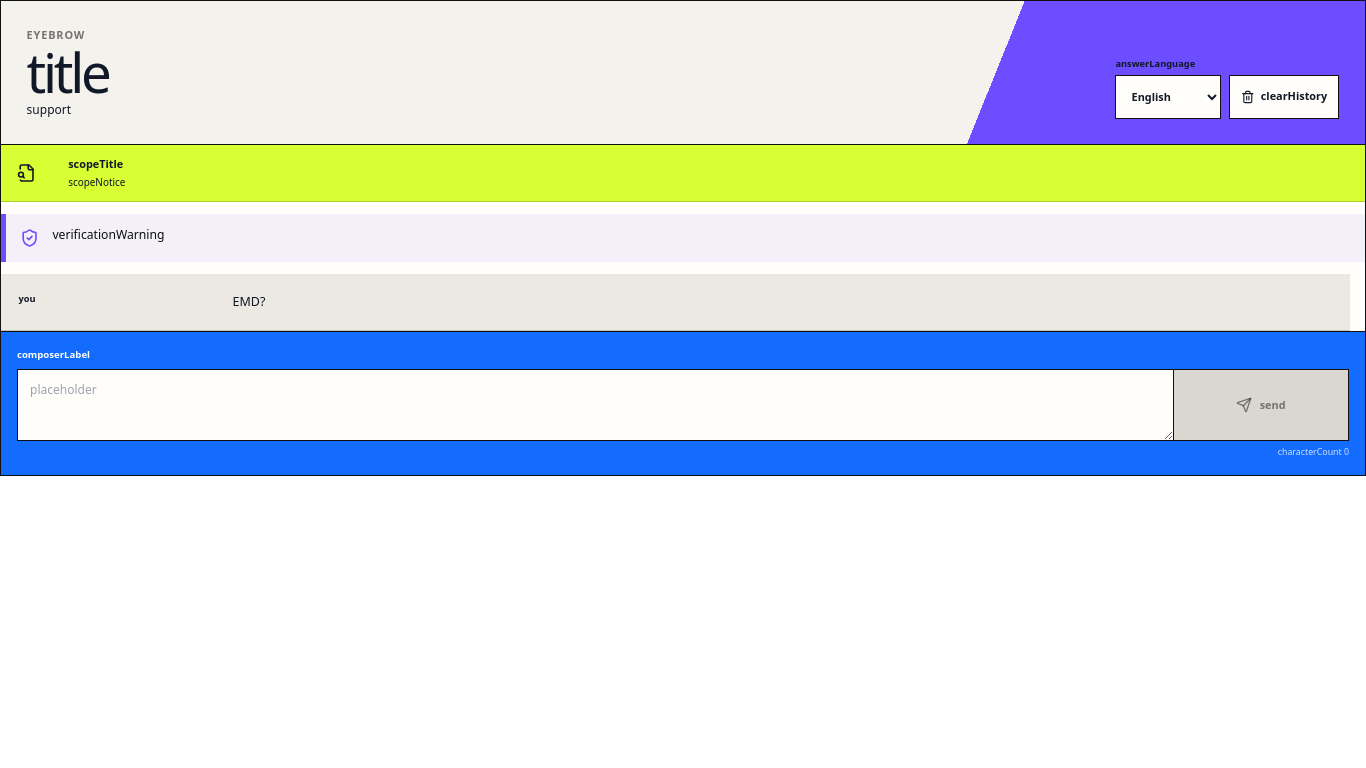
AskTenderMateReport › shows errors and confirms private-history deletion
Expected: the text "EMD?" is shown, [233, 293, 265, 310]
Click the button "clearHistory": coordinates (1284, 97) [1229, 75, 1339, 119]
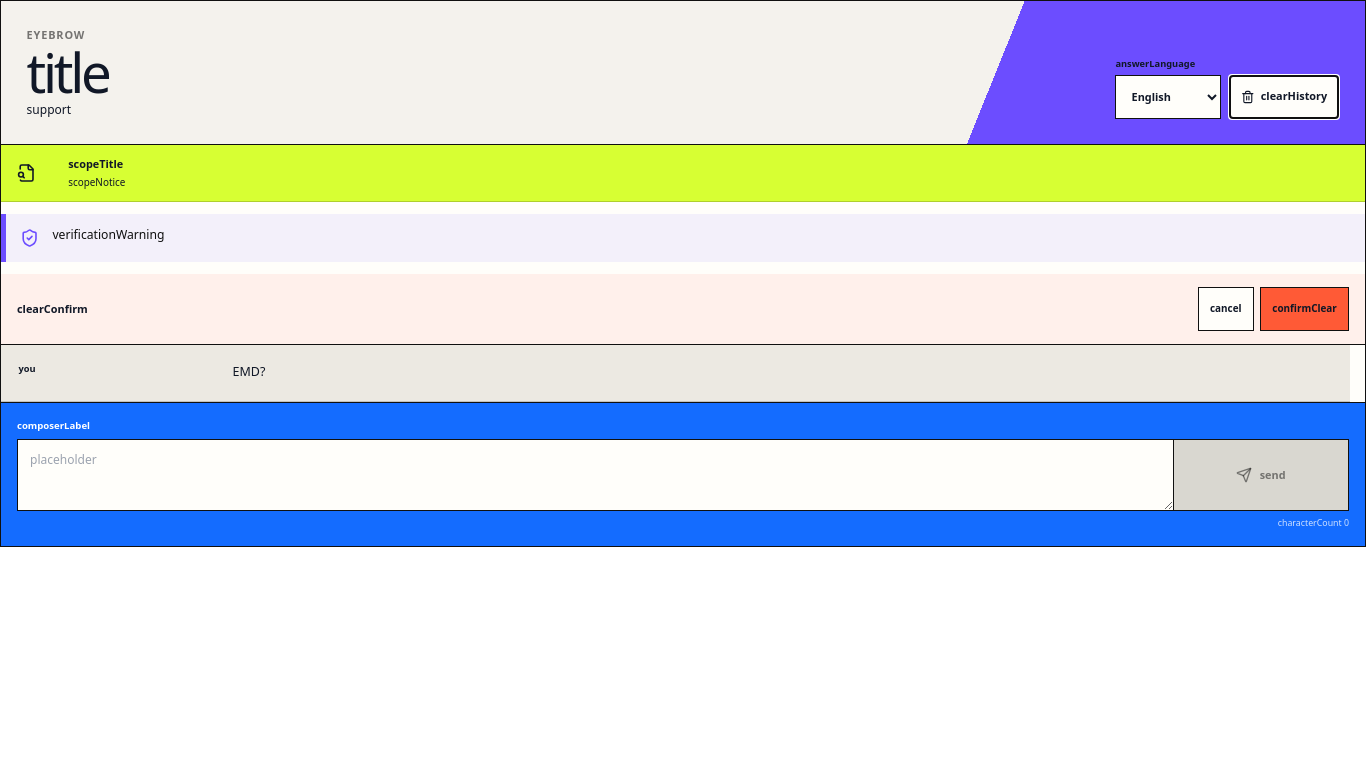
Expected: the text "clearConfirm" is shown, [17, 301, 88, 317]
Click the button "confirmClear": coordinates (1305, 309) [1260, 287, 1349, 331]
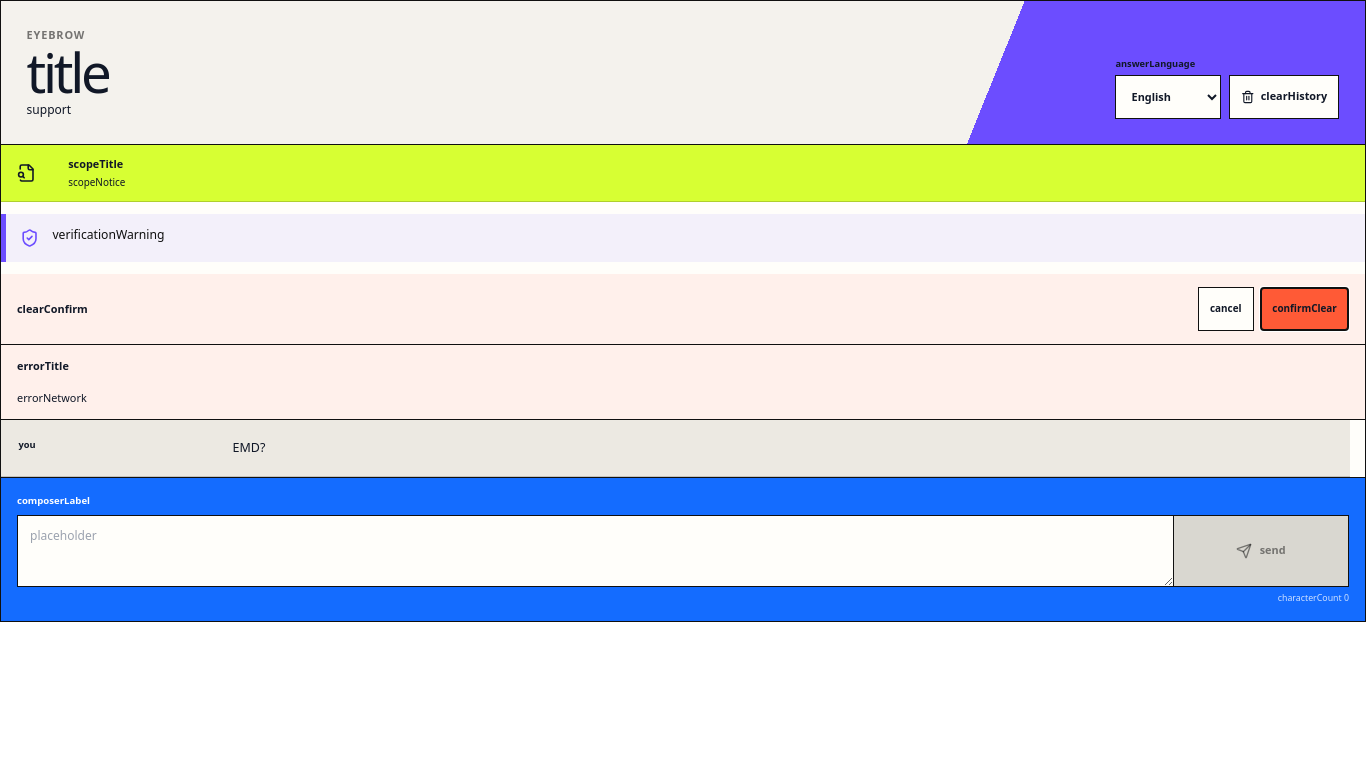
Expected: the text "errorNetwork" is shown, [17, 390, 87, 406]
